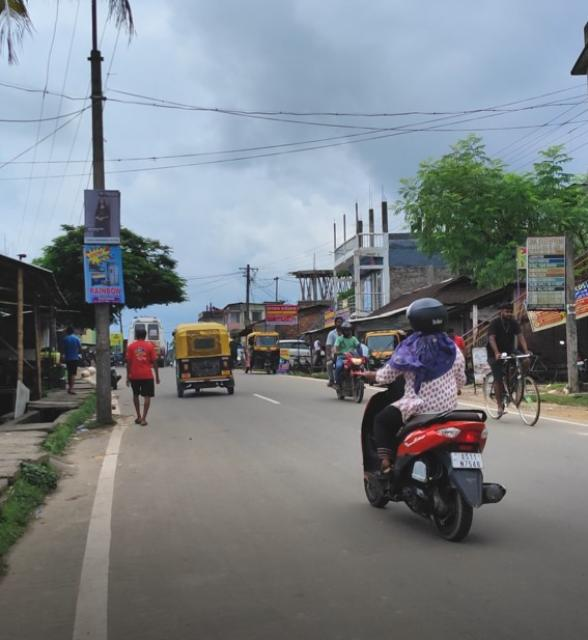licensePlate: (450, 448, 487, 470)
motorcycle: (362, 291, 508, 543)
withHelmet: (405, 296, 452, 337)
